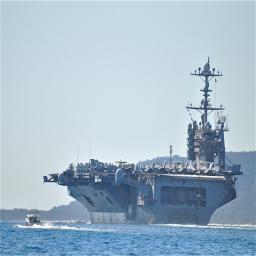Portanaves: (42, 48, 245, 229)
